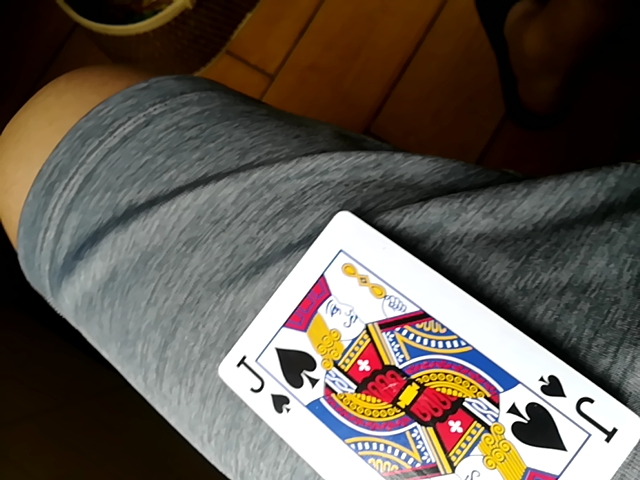ht j: (206, 203, 635, 480)
